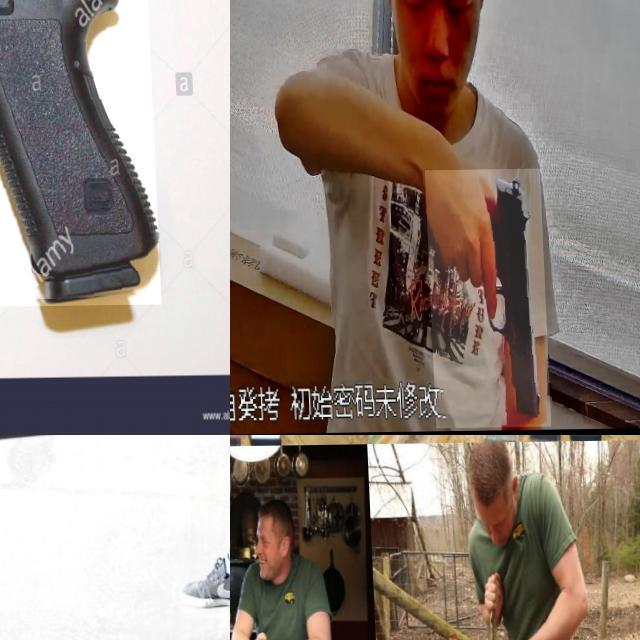-: (117, 435, 175, 476), (446, 435, 489, 474), (230, 435, 251, 474)
gun-knife-thesis - v11 Yolov5 augmented: (0, 0, 221, 310), (421, 170, 545, 429)
